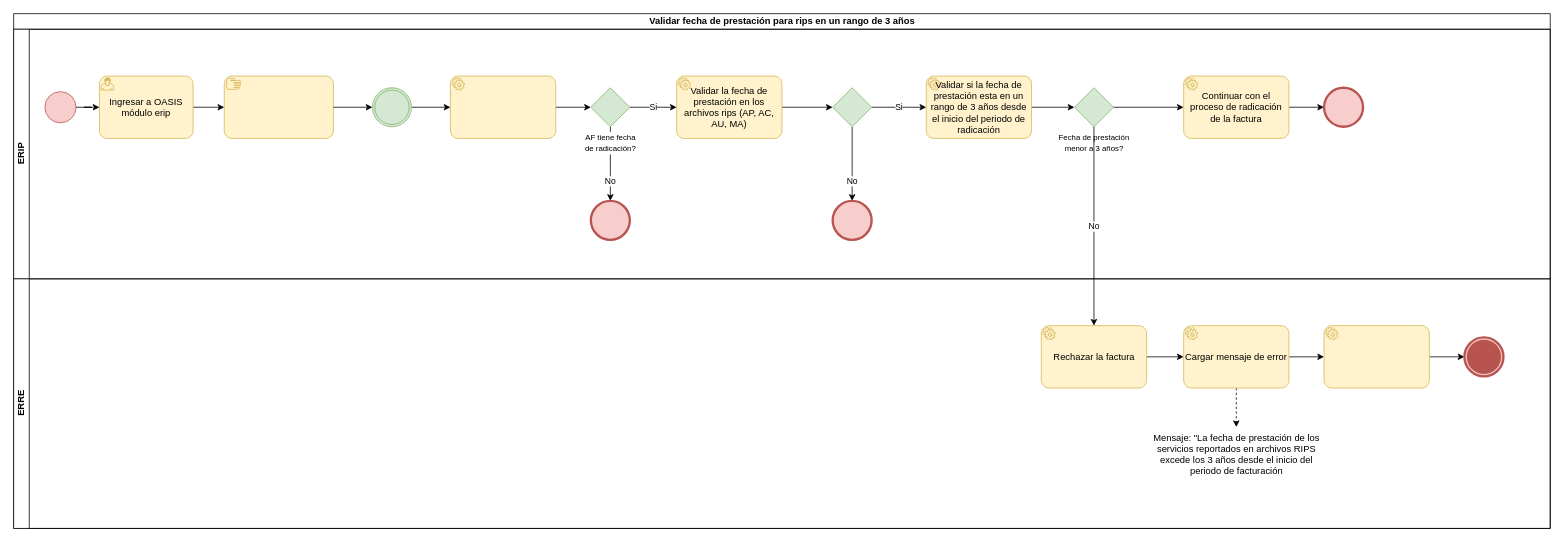
The diagram is 1564 pixels wide and 542 high, and some of its shapes have lost their labels. Each missing label, with the centre of its shape:
Archivos tiene fecha de prestación registrada?: the point at 852,107
Clic botón validar: the point at 391,107
Generar PDF con el informe de errores: the point at 1376,356
Realizar cargue de archivos rips: the point at 278,106
Verificar si el archivo AS tiene el campo de fechas de radicación diligenciada: the point at 503,106
